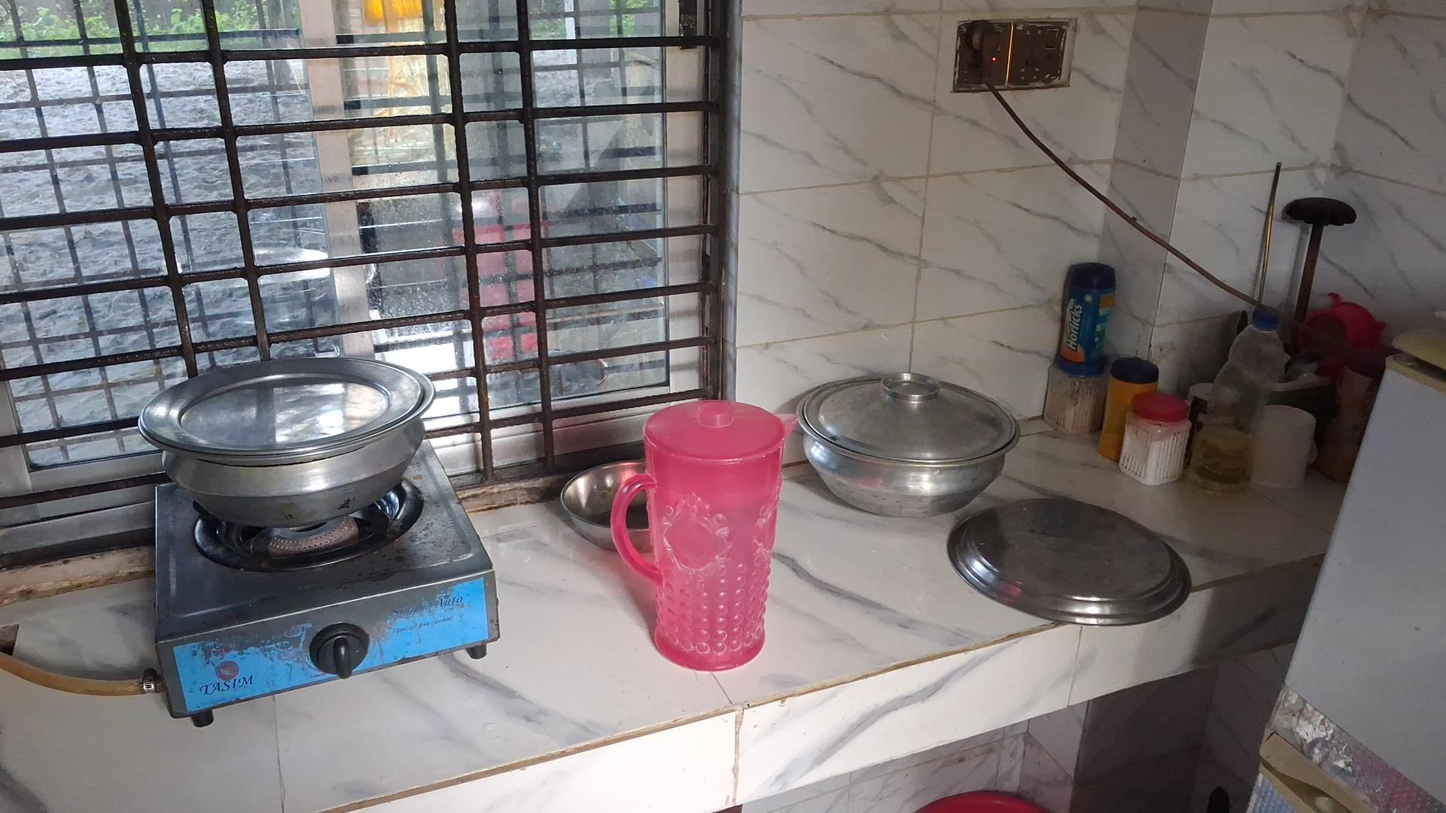Bottle: (1189, 306, 1289, 494)
Cup: (1256, 411, 1315, 502)
Jar: (1047, 261, 1117, 374), (1125, 388, 1189, 496), (1035, 376, 1099, 450)
Jug: (610, 399, 792, 674)
Plate: (945, 492, 1192, 618)
Pot: (143, 364, 431, 524), (796, 370, 1020, 518)
